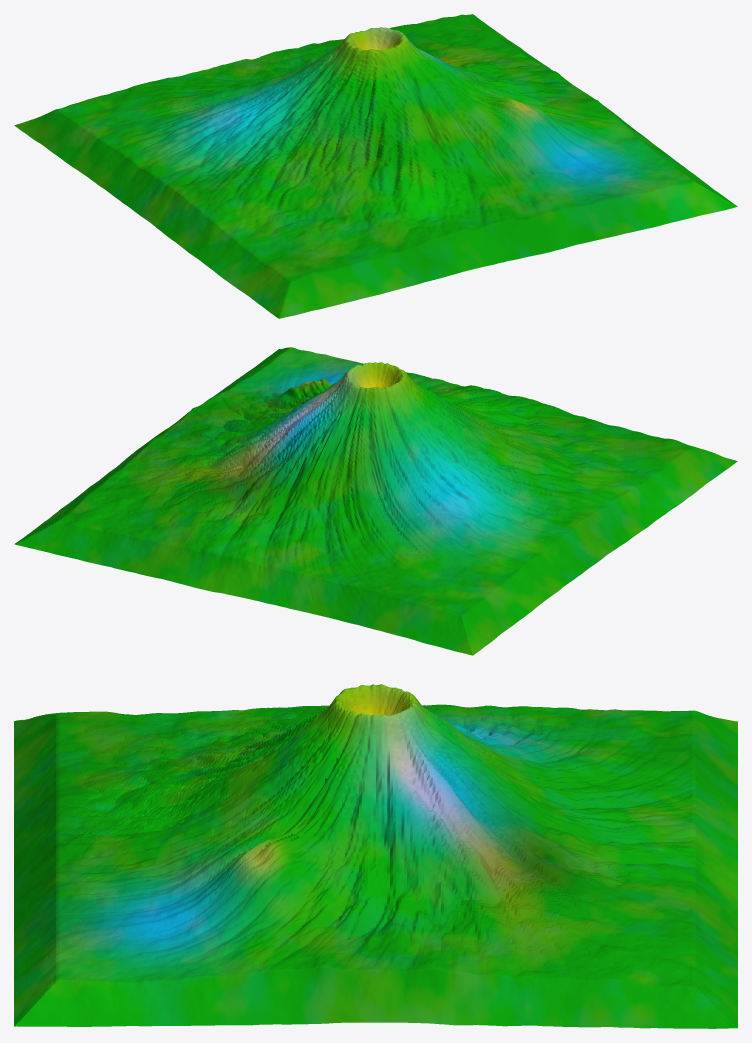
Rendered from volcan.glb.
3 renders of one model, top to bottom at view 1: azimuth 30°, elevation 25°; view 2: azimuth 150°, elevation 25°; view 3: azimuth 270°, elevation 25°, orthographic. The views are drawn at different scales.
Visible parts, largest first — view 1: VolcanTerrain; view 2: VolcanTerrain; view 3: VolcanTerrain.
Boxes of the visible parts, x1,y1,x2,y2 form: VolcanTerrain: (14, 14, 737, 318); VolcanTerrain: (14, 347, 737, 655); VolcanTerrain: (14, 684, 737, 1028).
Bounding box in the file's own units: 20 × 5.4 × 20.
